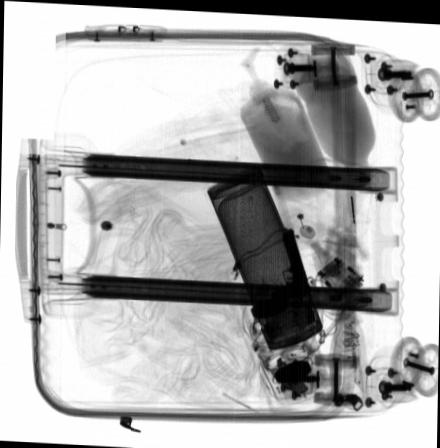Gun: (263, 226, 310, 305)
